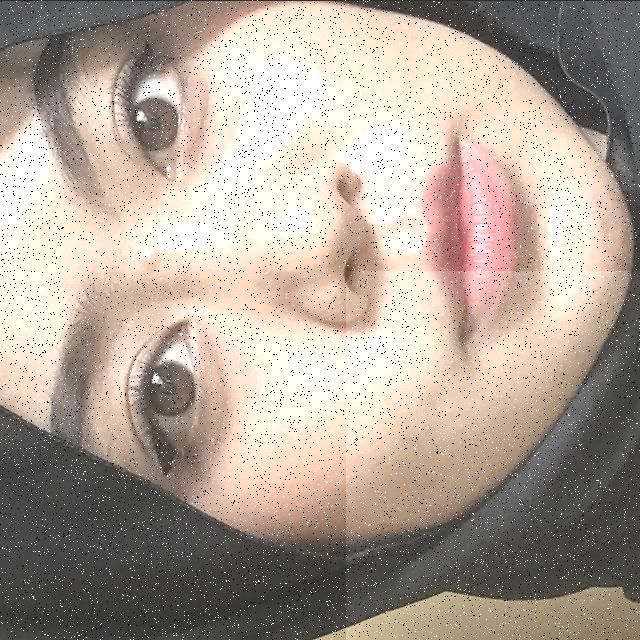kapan: (346, 270, 640, 640)
